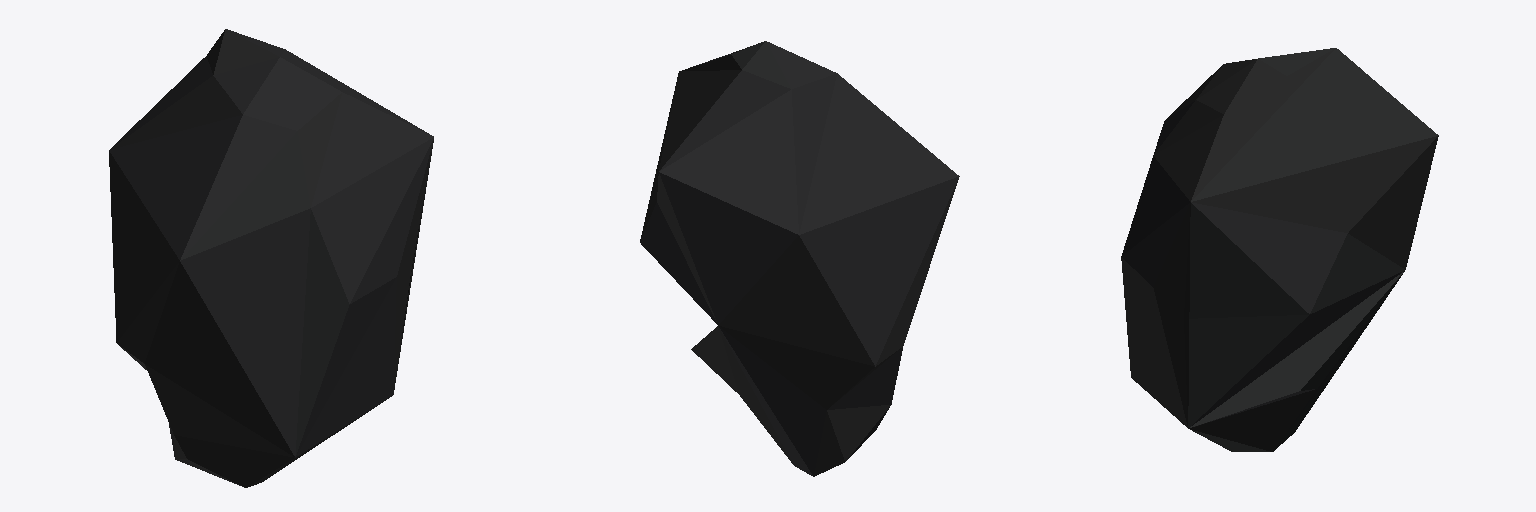
File: Rock.obj
The picture shows the model from 3 angles: view 1: azimuth 30°, elevation 25°; view 2: azimuth 150°, elevation 25°; view 3: azimuth 270°, elevation 25°; orthographic projection.
Visible parts, largest first — view 1: Rock; view 2: Rock; view 3: Rock.
Part boxes in pixels (x1,y1,x2,y2): Rock: (109,29,433,487); Rock: (640,41,959,476); Rock: (1121,48,1438,451).
Bounding box in the file's own units: 1.72 × 2.54 × 1.77.